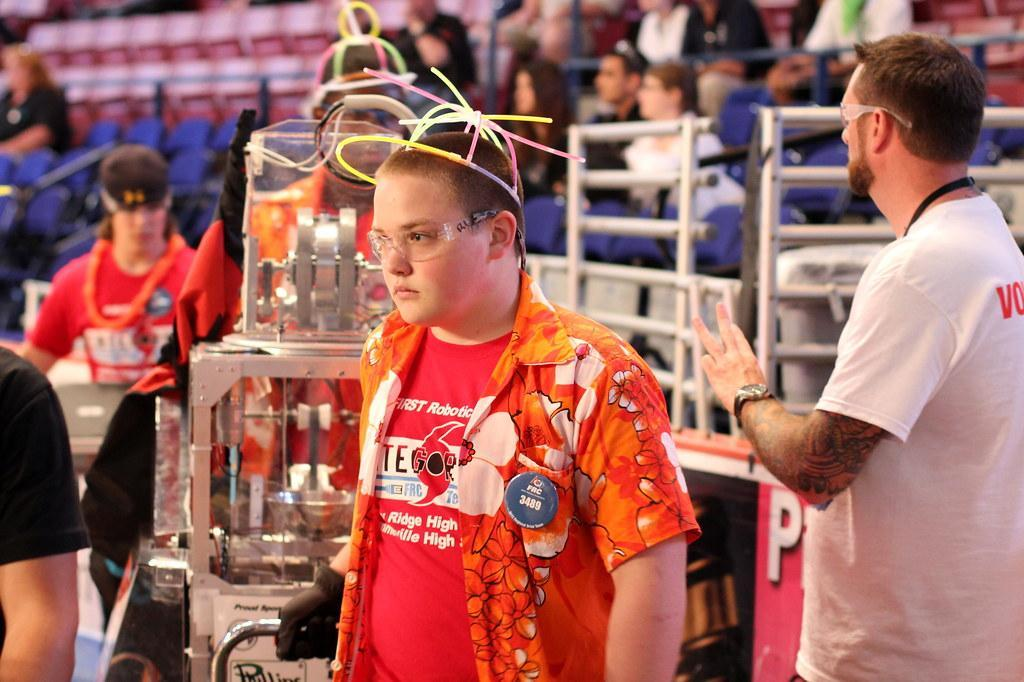robot: (107, 110, 463, 682)
